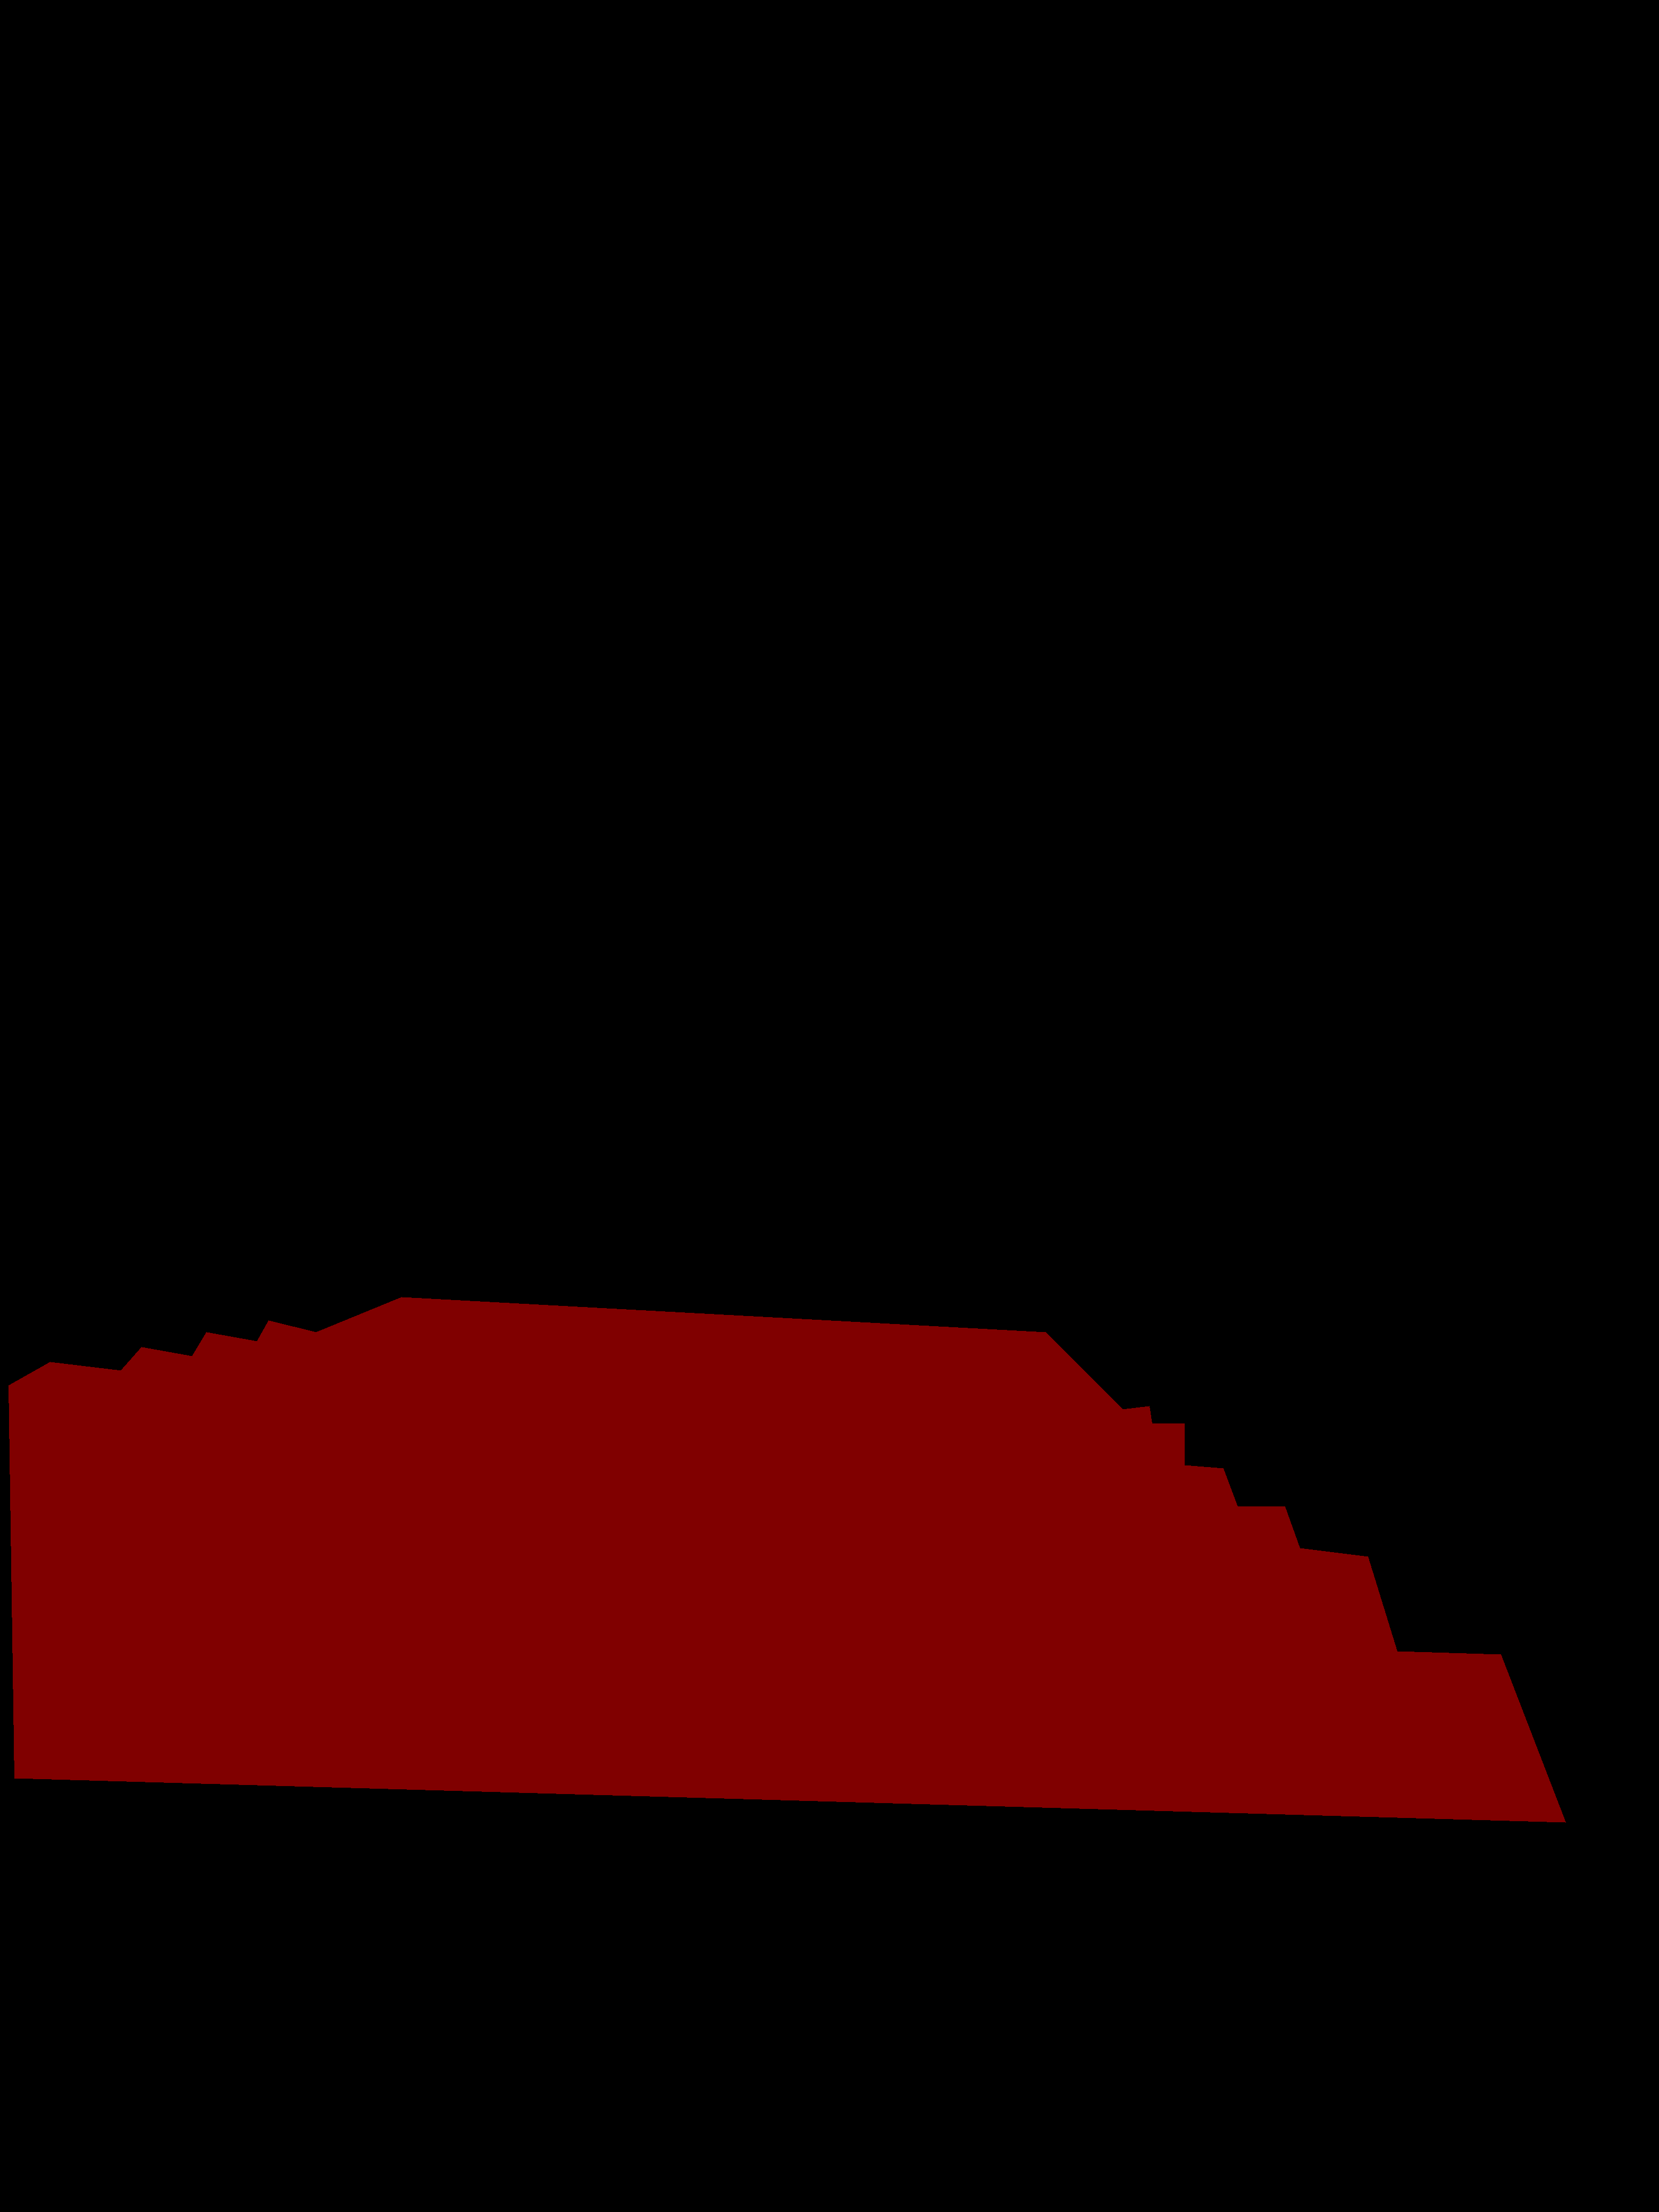stair: (9, 1298, 1565, 1822)
